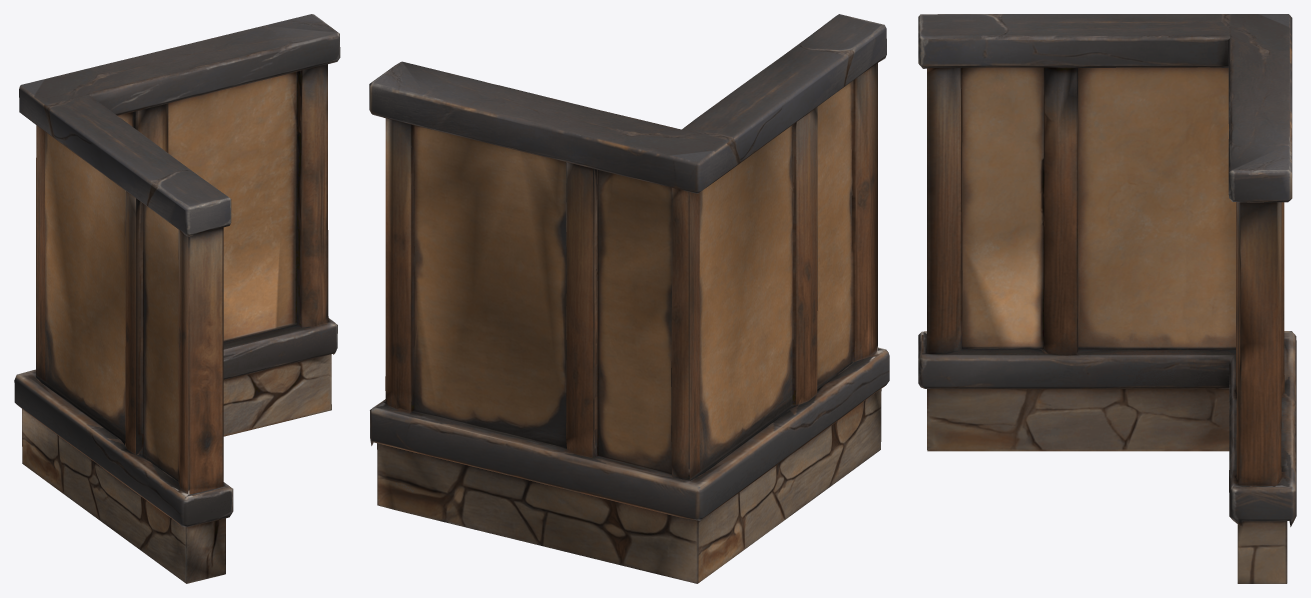
The model's file is corner.glb.
3 renders of one model, left to right at view 1: azimuth 30°, elevation 25°; view 2: azimuth 150°, elevation 25°; view 3: azimuth 270°, elevation 25°, orthographic. The views are drawn at different scales.
Parts seen in each view (by area): view 1: Mesh_0; view 2: Mesh_0; view 3: Mesh_0.
Part boxes in pixels (bbox=[...]): Mesh_0: bbox=[14, 14, 340, 583]; Mesh_0: bbox=[369, 14, 889, 583]; Mesh_0: bbox=[918, 14, 1296, 583].
Size of the model in its own units: 1.66 by 2 by 1.65.
1 material, 1 textured.
